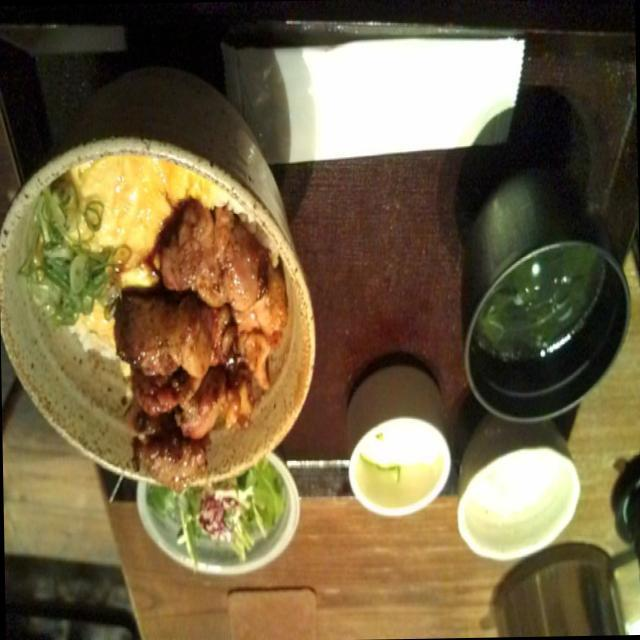Green Salad: (133, 477, 303, 594)
